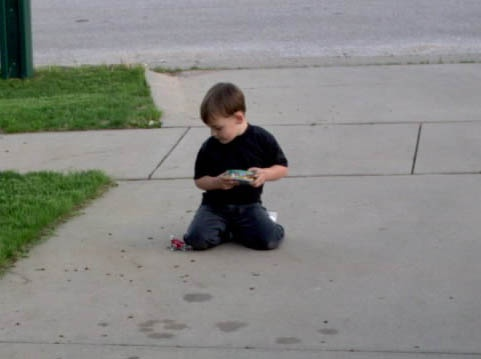head: (200, 82, 248, 145)
person: (171, 82, 291, 250)
